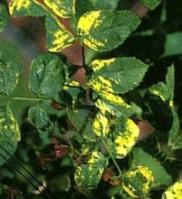Tomato leaf mosaic virus: (82, 38, 153, 108), (73, 0, 145, 66), (16, 49, 77, 110), (65, 148, 121, 199), (0, 102, 37, 161), (0, 56, 31, 110), (21, 103, 60, 141)
